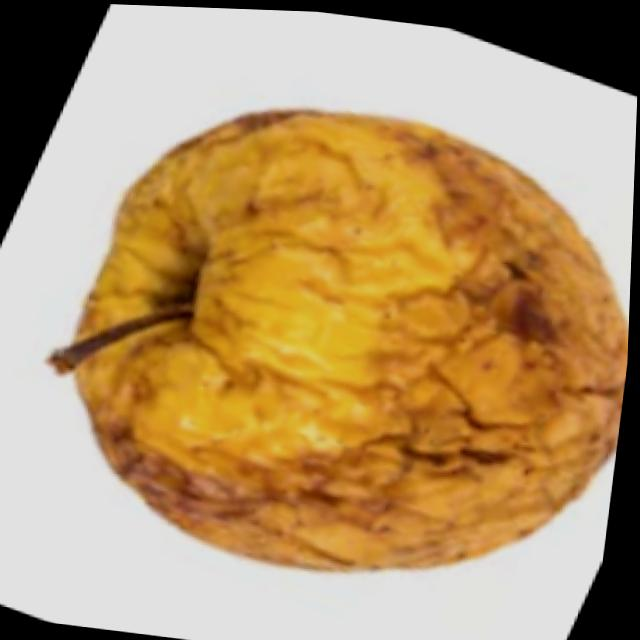organik: (0, 31, 639, 640)
